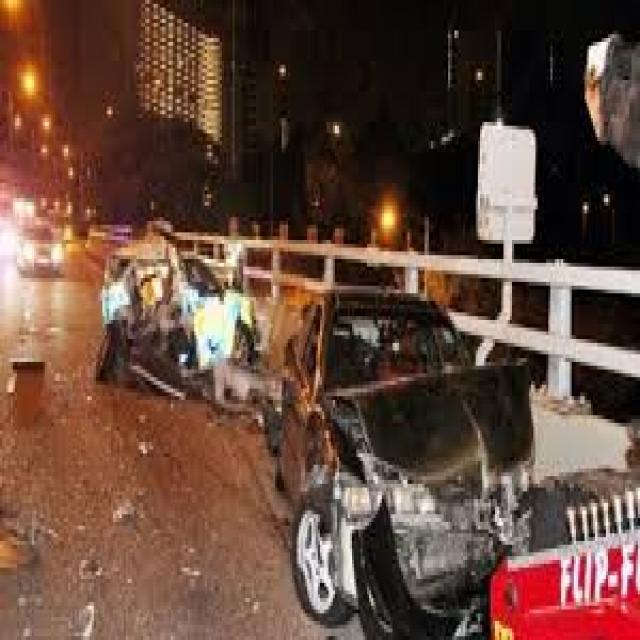accident: (273, 263, 557, 640), (88, 204, 262, 456)
